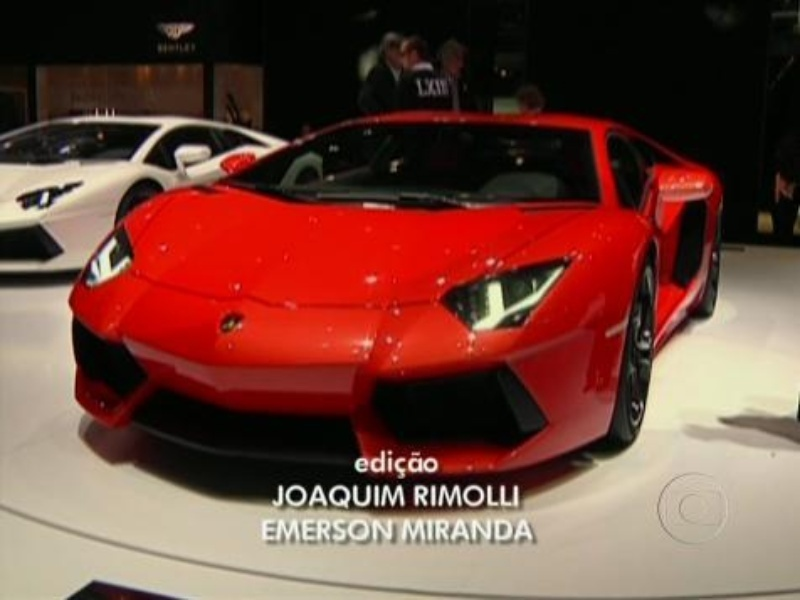normalcar: (292, 84, 743, 431)
